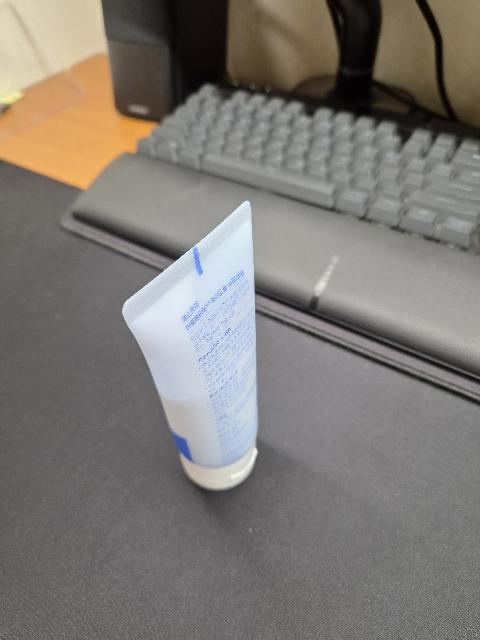handcream: (122, 200, 258, 491)
